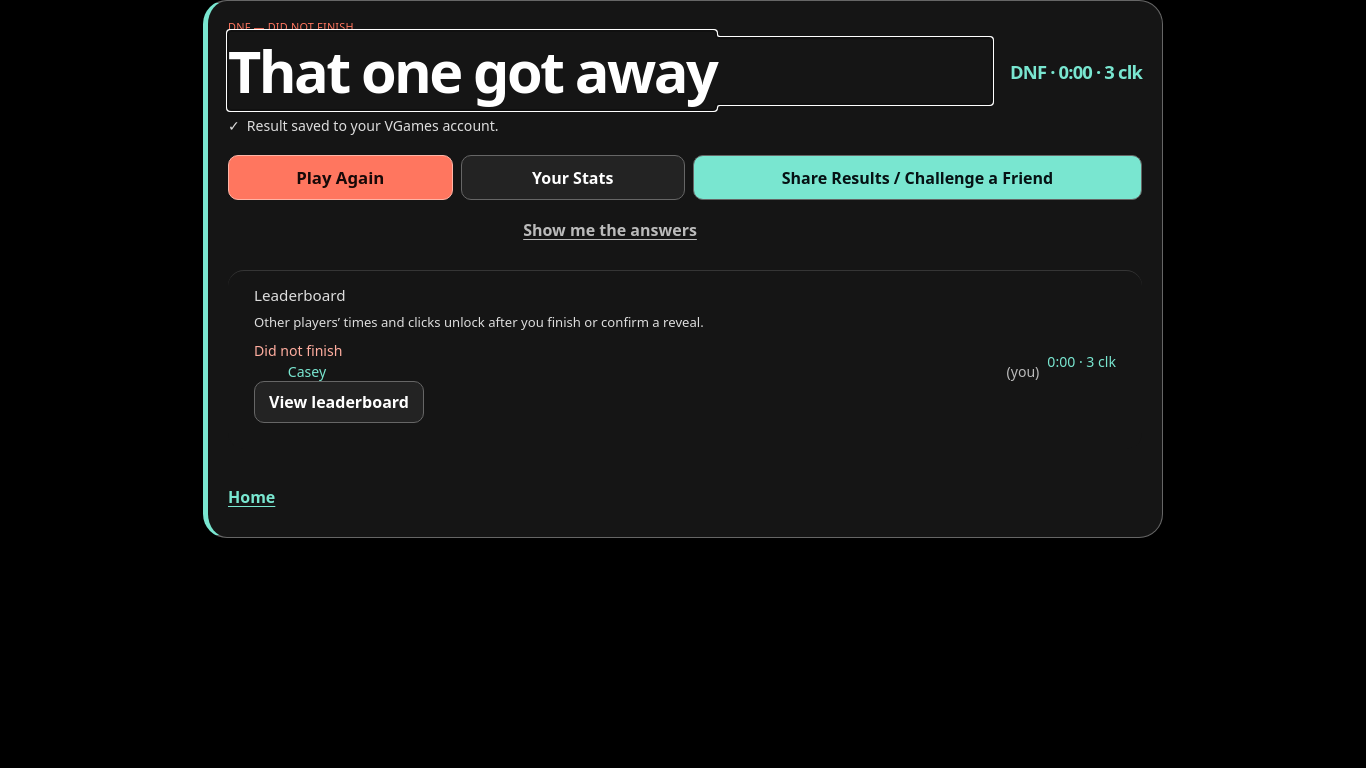
RaceResults: "I gave up" affordance (owner spec, 2026-08-02) › explains the missed progress requirement for a counted but ineligible DNF
The image size is (1366, 768).
What coordinates should you click on to do the following:
click the button "Show me the answers"
I would click on:
 (610, 230)
Its box is x1=228 y1=208 x2=992 y2=252.
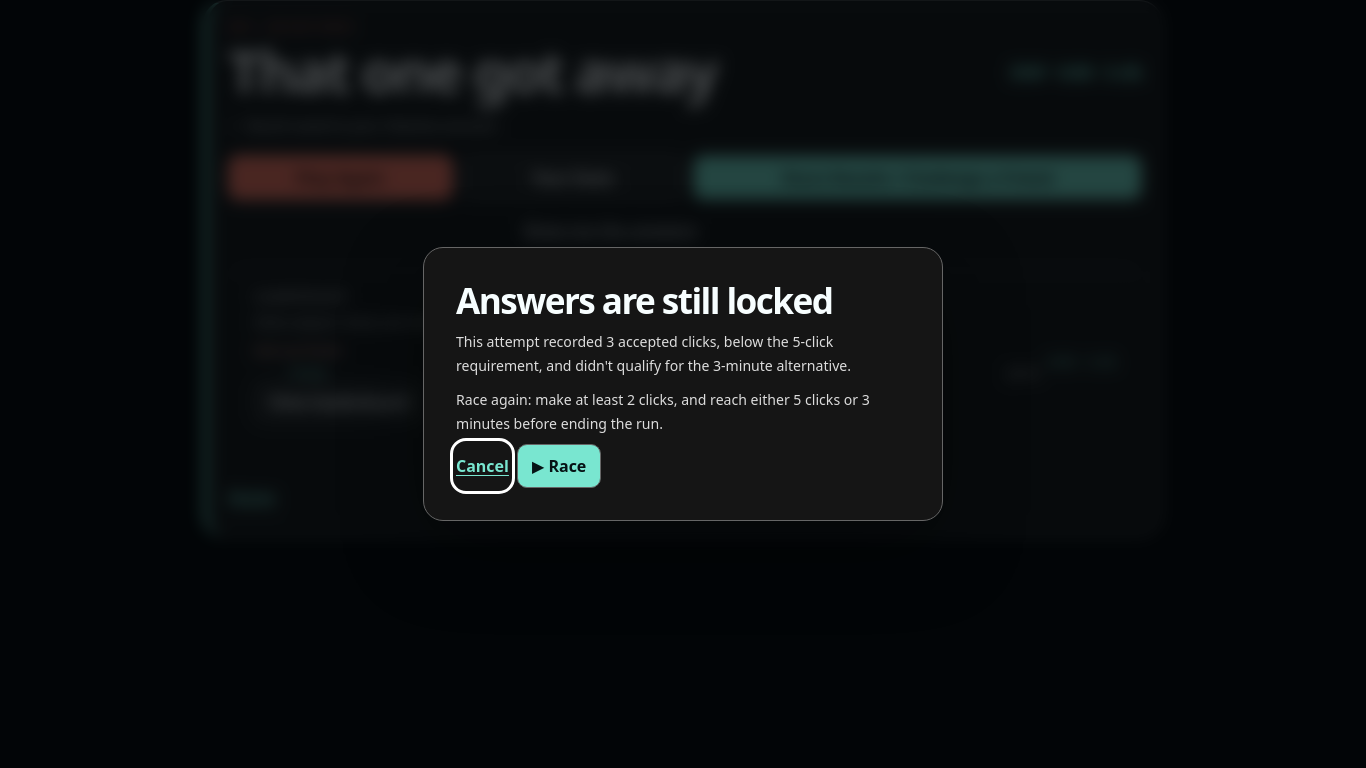
Now the text "This attempt recorded 3 accepted clicks, below the 5-click requirement, and didn't qualify for the 3-minute alternative." is shown, box x1=456 y1=332 x2=851 y2=375
